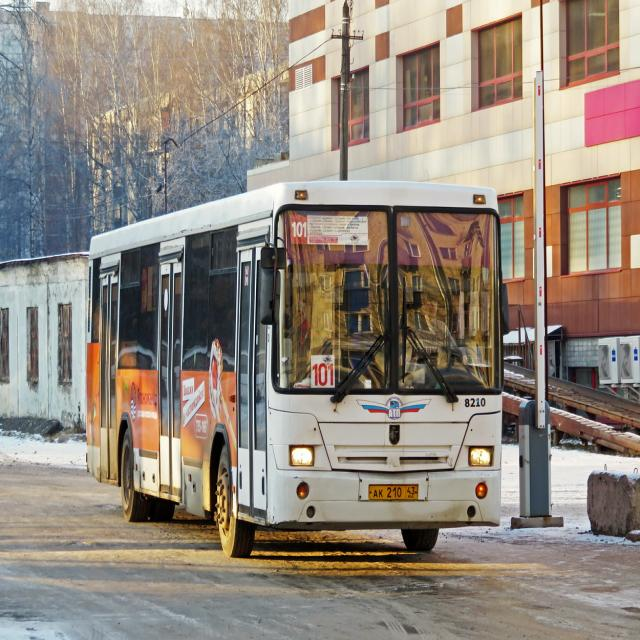number-of-bus: (312, 363, 337, 387), (291, 217, 309, 241)
